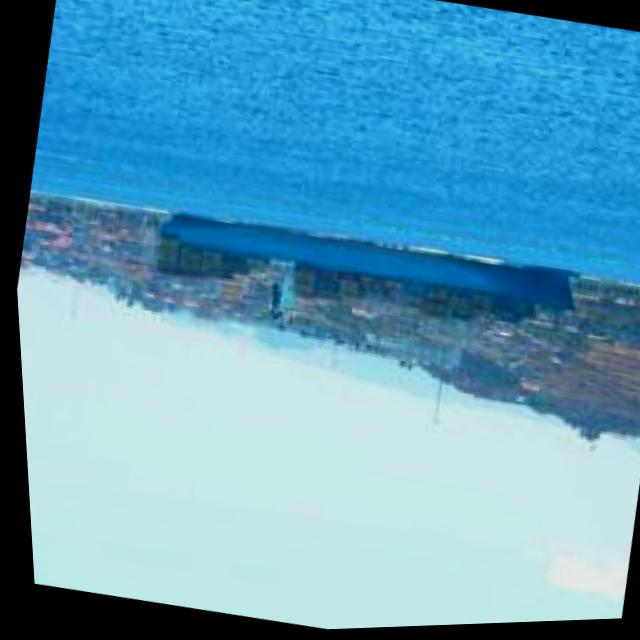ship2: (156, 216, 573, 374)
